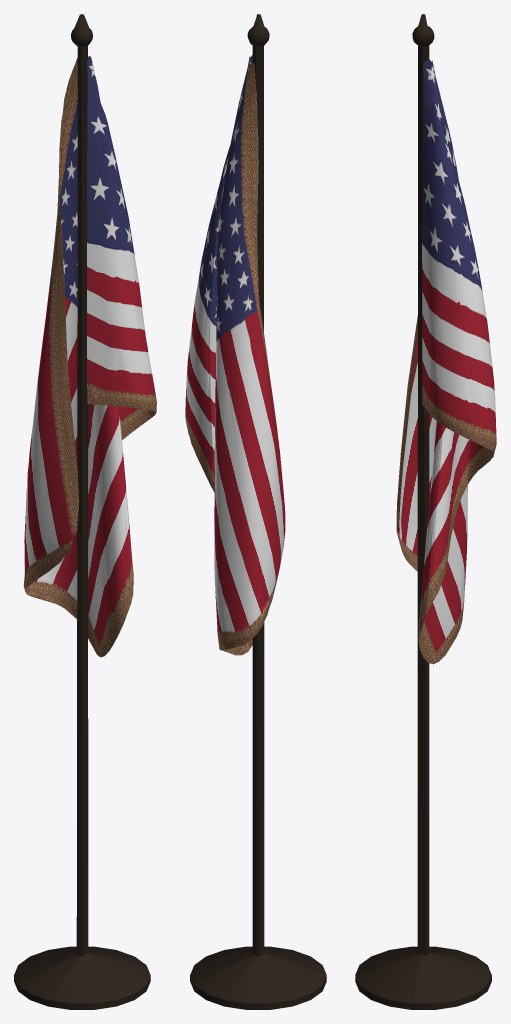
The model's file is Flag.FBX.
The picture shows the model from 3 angles, left to right: view 1: azimuth 30°, elevation 25°; view 2: azimuth 150°, elevation 25°; view 3: azimuth 330°, elevation 25°; orthographic projection.
Parts seen in each view (by area): view 1: Flag; view 2: Flag; view 3: Flag.
Boxes of the visible parts, box(x1,y1,x2,y2) form: Flag: box(14, 14, 156, 1009); Flag: box(185, 14, 326, 1009); Flag: box(355, 14, 496, 1009).
Size of the model in its own units: 39.46 by 282 by 36.3.
1 material, 1 textured.
